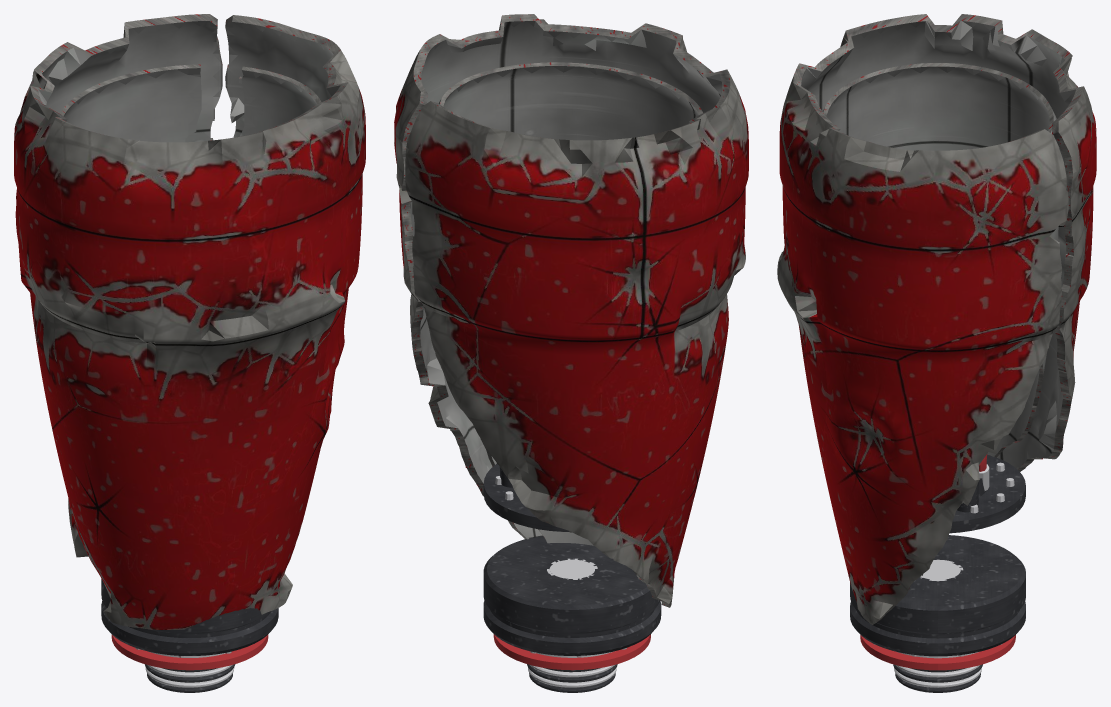
File: baymax_forearm_shell.glb
3 views of the same model, side by side, from view 1: azimuth 30°, elevation 25°; view 2: azimuth 150°, elevation 25°; view 3: azimuth 270°, elevation 25° (orthographic).
Visible parts, largest first — view 1: baymax_forearm_shell; view 2: baymax_forearm_shell; view 3: baymax_forearm_shell.
Part boxes in pixels (x1,y1,x2,y2): baymax_forearm_shell: [14, 14, 365, 692]; baymax_forearm_shell: [394, 14, 748, 692]; baymax_forearm_shell: [777, 14, 1096, 692].
Size of the model in its own units: 0.5736 by 1.05 by 0.509.
7 materials, 4 textured.
